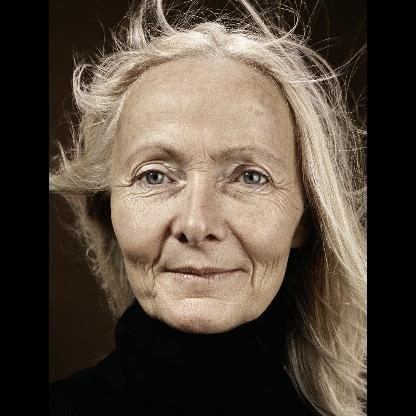Female: (109, 57, 305, 336)
